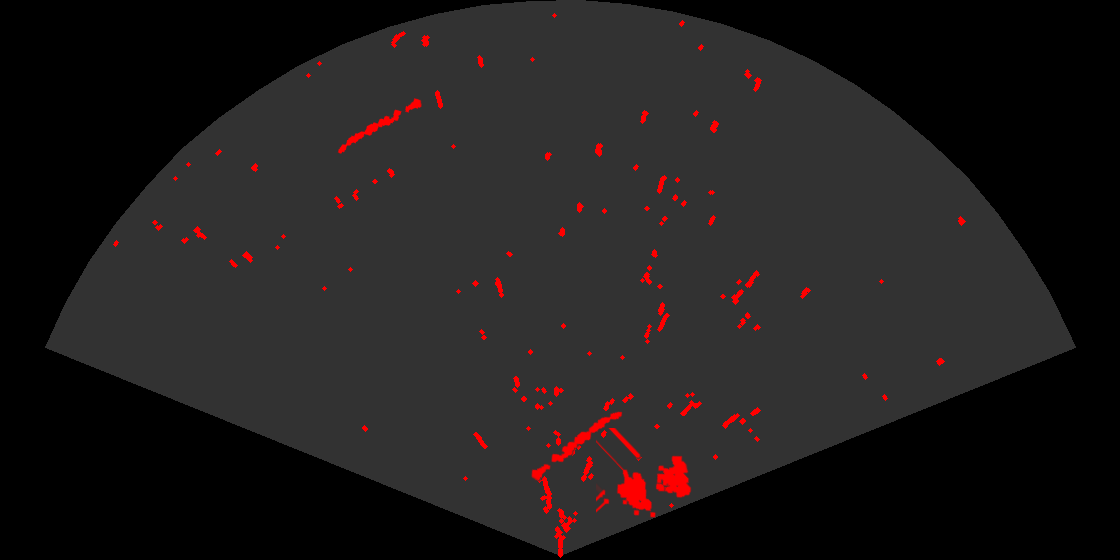cage: (596, 428, 693, 519)
chain: (530, 410, 624, 482), (337, 97, 424, 155)
